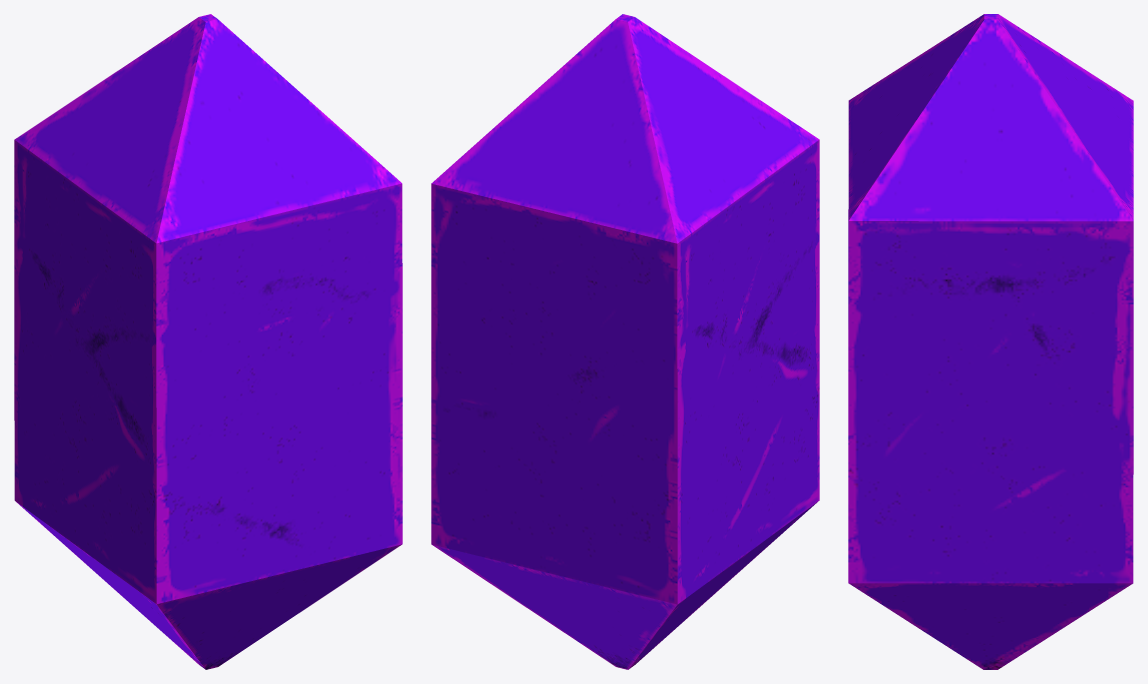
File: gema.fbx
3 views of the same model, side by side, from view 1: azimuth 30°, elevation 25°; view 2: azimuth 150°, elevation 25°; view 3: azimuth 270°, elevation 25° (orthographic).
Parts seen in each view (by area): view 1: Gema; view 2: Gema; view 3: Gema.
Part boxes in pixels (x1,y1,x2,y2): Gema: [14, 14, 402, 669]; Gema: [431, 14, 819, 669]; Gema: [848, 14, 1133, 669].
Bounding box in the file's own units: 1671 × 4204 × 1673.
1 material, 1 textured.
